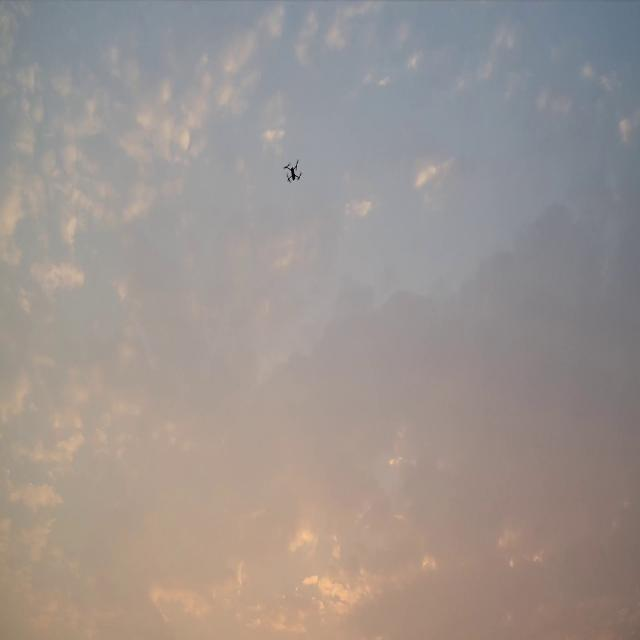UAV: (283, 158, 302, 184)
